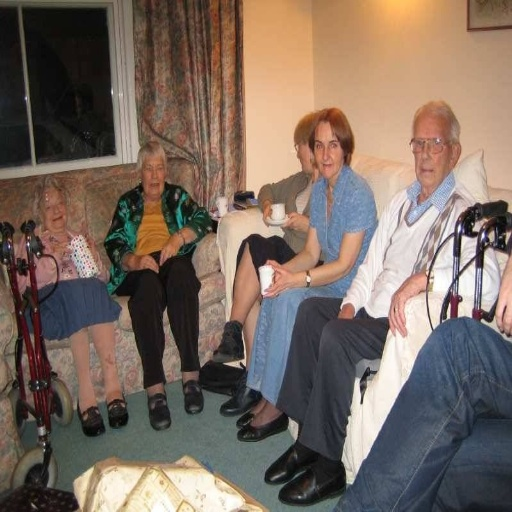hand: (387, 281, 427, 341), (493, 251, 510, 336), (259, 262, 293, 300), (281, 208, 310, 234), (158, 237, 181, 267), (133, 253, 159, 275), (262, 256, 283, 279), (51, 239, 72, 260), (258, 199, 272, 226), (85, 235, 96, 259)
